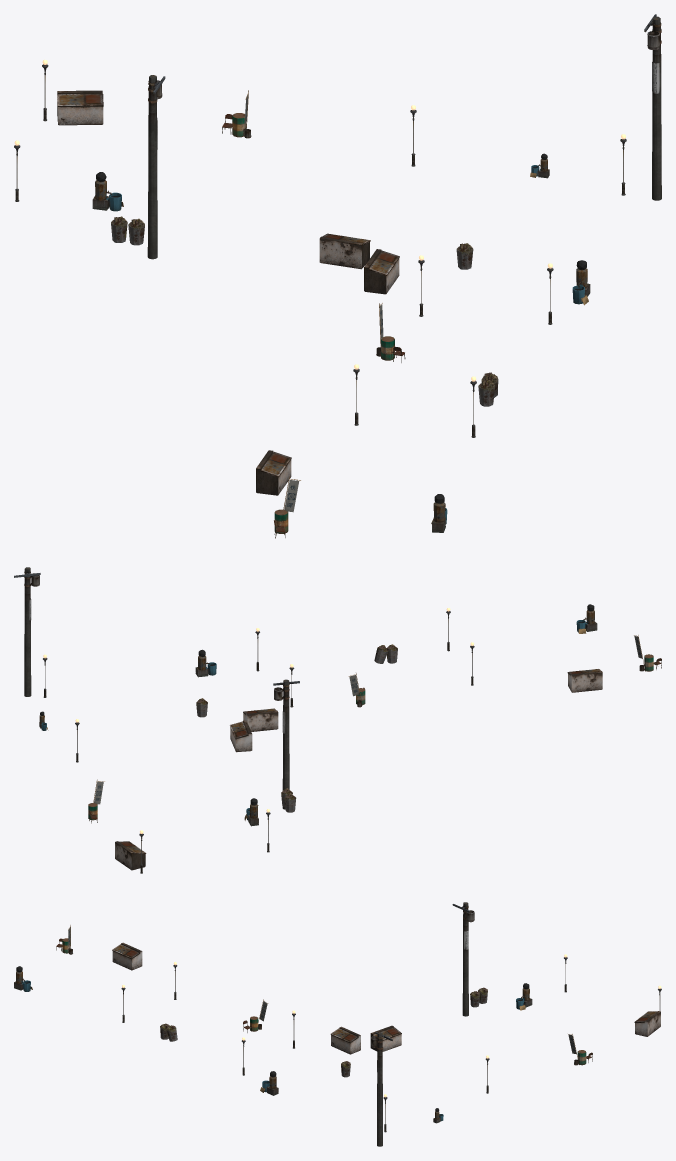
Rendered from decore 01 new.fbx.
3 views of the same model, one above another, from view 1: azimuth 30°, elevation 25°; view 2: azimuth 150°, elevation 25°; view 3: azimuth 270°, elevation 25° (orthographic). The views are drawn at different scales.
Parts seen in each view (by area): view 1: decore_01; view 2: decore_01; view 3: decore_01.
Boxes of the visible parts, bbox=[...] form: decore_01: bbox=[14, 14, 661, 538]; decore_01: bbox=[14, 567, 661, 873]; decore_01: bbox=[14, 902, 661, 1146].
Bounding box in the file's own units: 5746 × 1547 × 7984.
